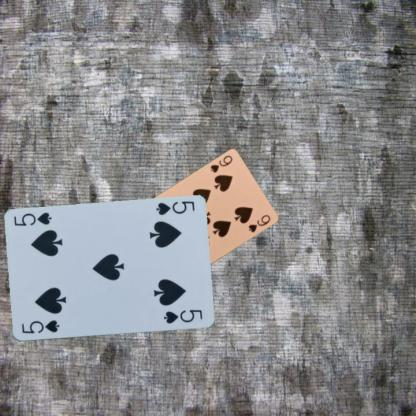5s: (153, 198, 196, 216), (19, 317, 60, 335)
9s: (207, 152, 233, 174)
